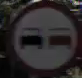No overtake: (7, 3, 76, 67)
